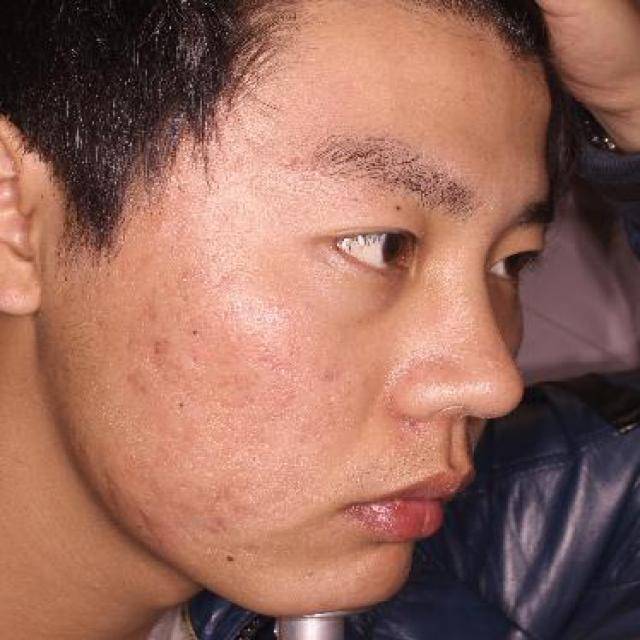blackheads: (181, 317, 207, 346)
dark spot: (146, 324, 177, 368)
papules: (125, 498, 178, 534)
